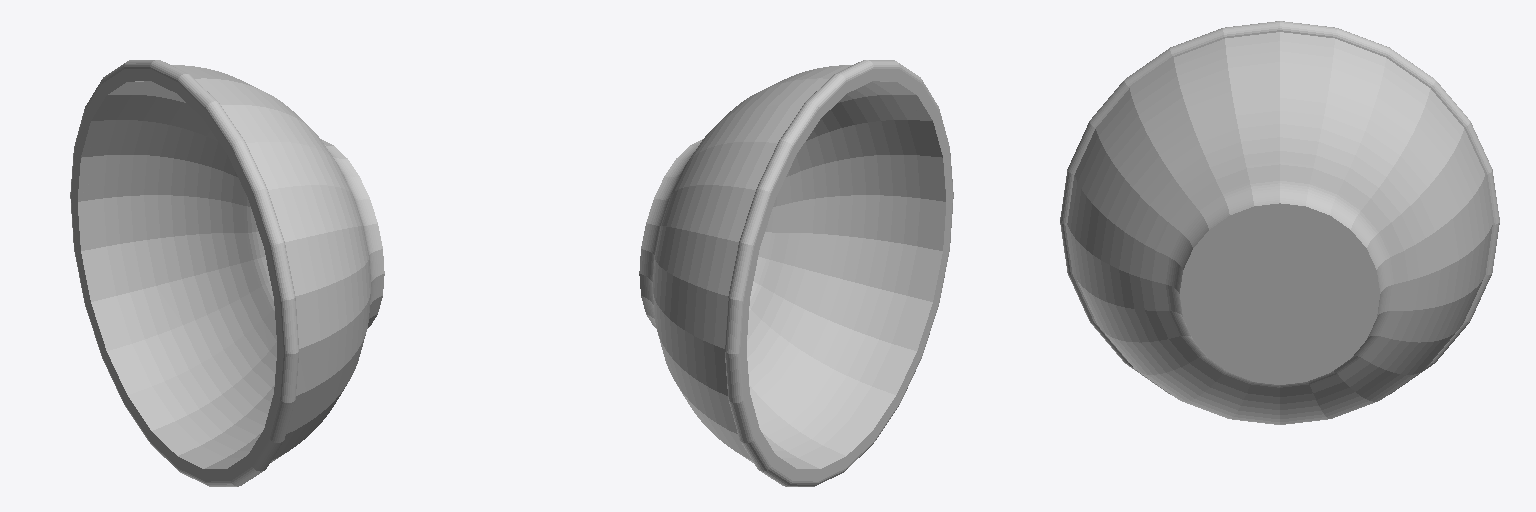
The model's file is bowl1.obj.
3 views of the same model, side by side, from view 1: azimuth 30°, elevation 25°; view 2: azimuth 150°, elevation 25°; view 3: azimuth 270°, elevation 25° (orthographic).
Size of the model in its own units: 0.0185 by 0.045 by 0.045.